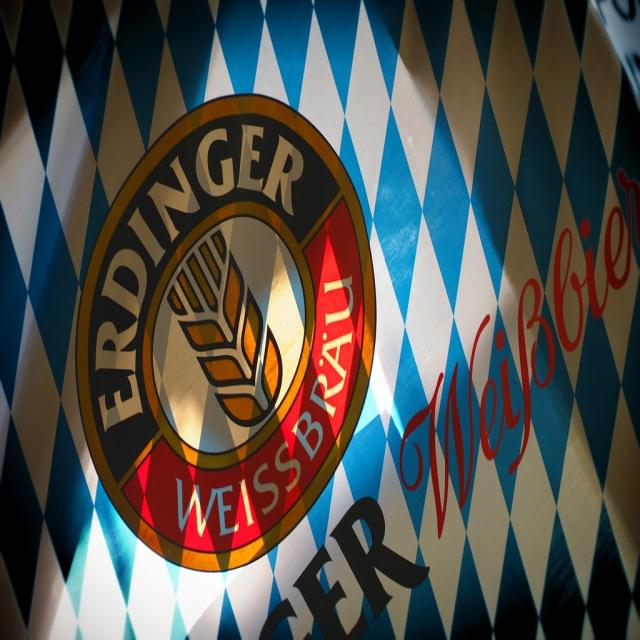erdinger: (72, 94, 381, 579)
